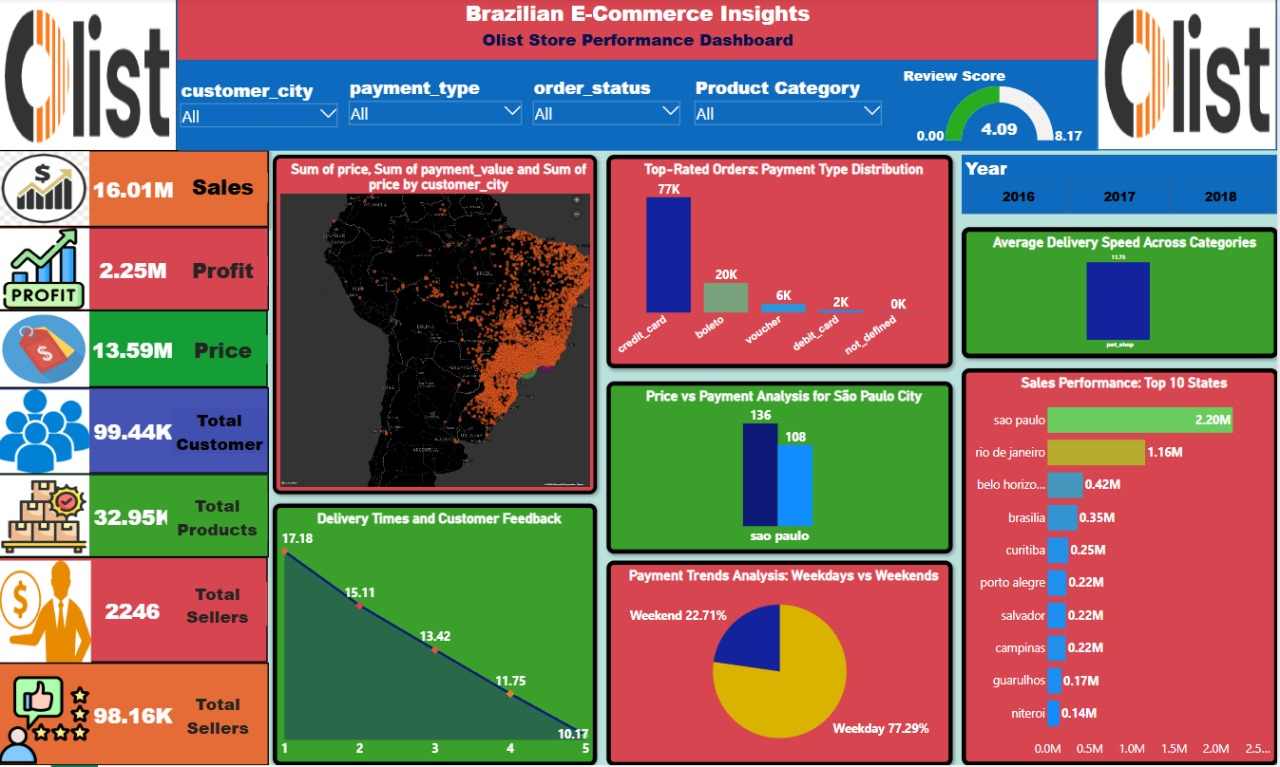

This screenshot's page, from the dashboard's own definition file:
{"tool":"tableau","page":{"name":"Dashboard ","canvas":[1000,1000],"units":"permille","ordinal":0},"visuals":[{"type":"title","box":[4.8,10,990.3,124.9]},{"type":"image","param":"E:/Excelr_ecommerce _project1/E Commerce dataset/E Commerce dataset/images.png","box":[4.8,134.8,125.3,176.3]},{"type":"filter","title":"Delivery Speed: Average Days Across Categories","param":"[federated.19qf7vi0kcursd1g0wc1k1jocrd3].[none:Calculation_1483373159317409795:o","box":[130.2,134.8,202.8,89.7]},{"type":"filter","title":"Delivery Speed: Average Days Across Categories","param":"[federated.19qf7vi0kcursd1g0wc1k1jocrd3].[none:Calculation_1483373159317250050:n","box":[332.9,134.8,319.6,89.9]},{"type":"filter","title":"Delivery Speed: Average Days Across Categories","param":"[federated.19qf7vi0kcursd1g0wc1k1jocrd3].[none:Calculation_1483373159316447233:n","box":[652.5,134.8,342.7,89.9]},{"type":"filter","title":"Delivery Time vs Customer Feedback","param":"[federated.19qf7vi0kcursd1g0wc1k1jocrd3].[none:product_category_name:nk]","box":[130.2,224.5,202.8,86.6]},{"type":"image","param":"E:/Excelr_ecommerce _project1/E Commerce dataset/E Commerce dataset/paymet.png","box":[332.9,224.7,97.8,86.4]},{"type":"filter","title":"Payment Type ","param":"[federated.19qf7vi0kcursd1g0wc1k1jocrd3].[none:payment_type:nk]","box":[430.7,224.7,221.6,86.4]},{"type":"image","param":"E:/Excelr_ecommerce _project1/E Commerce dataset/E Commerce dataset/rs1.png","box":[652.3,224.7,90.5,86.4]},{"type":"filter","title":"Average Payment Trends by Product Category","param":"[federated.19qf7vi0kcursd1g0wc1k1jocrd3].[none:review_score:ok]","box":[742.8,224.7,252.4,86.4]},{"type":"image","param":"E:/Excelr_ecommerce _project1/E Commerce dataset/E Commerce dataset/salessss.jpe","box":[4.8,311.1,125.3,76.6]},{"type":"image","param":"E:/Excelr_ecommerce _project1/E Commerce dataset/E Commerce dataset/price.png","box":[130.1,311.1,146.7,76.3]},{"type":"image","param":"E:/Excelr_ecommerce _project1/E Commerce dataset/E Commerce dataset/profit.png","box":[276.9,311.1,143.7,76.6]},{"type":"image","param":"E:/Excelr_ecommerce _project1/E Commerce dataset/images.png","box":[420.5,311.1,162.3,135.4]},{"type":"image","param":"E:/Excelr_ecommerce _project1/E Commerce dataset/E Commerce dataset/customers.pn","box":[582.8,311.1,141.8,74.7]},{"type":"image","param":"E:/Excelr_ecommerce _project1/E Commerce dataset/E Commerce dataset/sellers.png","box":[724.6,311.1,143.5,74.7]},{"type":"image","param":"E:/Excelr_ecommerce _project1/E Commerce dataset/E Commerce dataset/p.png","box":[868.1,311.1,127,74.7]},{"type":"worksheet","title":"Total Customers","mark":"Automatic","box":[582.8,385.8,141.8,60.7]},{"type":"worksheet","title":"Total Sellers","mark":"Automatic","box":[724.6,385.8,143.5,60.7]},{"type":"worksheet","title":"Total Products","mark":"Automatic","box":[868.1,385.8,127,60.7]},{"type":"worksheet","title":"Total Price","mark":"Automatic","box":[130.1,387.4,146.7,59.1]},{"type":"worksheet","title":"Total Sales","mark":"Automatic","box":[4.8,387.7,125.3,58.8]},{"type":"worksheet","title":"Total Profit","mark":"Automatic","box":[276.9,387.7,143.7,58.8]},{"type":"worksheet","title":"Weekday/Weekends","mark":"Pie","box":[4.8,446.5,266.9,282.8]},{"type":"worksheet","title":"Delivery Speed: Average Days Across Categories","mark":"Pie","rows":["Calculation_1329687821044305920","Calculation_1329687821044305920"],"box":[271.8,446.5,267,282.8]},{"type":"worksheet","title":"Average Payment Trends by Product Category","mark":"Automatic","rows":["payment_value"],"cols":["product_category_name"],"box":[538.8,446.5,280.7,282.8]},{"type":"worksheet","title":"Sales Performance: Top 10 States","mark":"Bar","rows":["customer_city"],"cols":["payment_value"],"box":[819.4,446.5,175.7,543.5]},{"type":"worksheet","title":"Delivery Time vs Customer Feedback","mark":"Automatic","rows":["Calculation_1329687821099941889"],"cols":["review_score"],"box":[4.8,729.4,272.2,195.6]},{"type":"worksheet","title":"Price and Payment Trends in São Paulo city","mark":"Automatic","cols":["customer_city"],"box":[277,729.4,261.8,260.7]},{"type":"worksheet","title":"Payment Type ","mark":"Bar","rows":["payment_type"],"cols":["olist_orders_dataset.csv_21F889329ADC47FE93388A6777013BE0"],"box":[538.8,729.4,280.7,260.7]},{"type":"filter","title":"Weekday/Weekends","param":"[federated.19qf7vi0kcursd1g0wc1k1jocrd3].[none:order_status:nk]","box":[4.8,925,272.2,65.1]}]}

Visuals, with their boxes on the dashboard's canvas, which has no fixed pixel size, in thousandths of its width and height (x1, y1, x2, y2). These are canvas units, not pixel positions in the 1280x767 screenshot, which may show the page scaled, cropped or inside an application window:
title: locate(5, 10, 995, 135)
image: locate(5, 135, 130, 311)
"Delivery Speed: Average Days Across Categories" filter: locate(130, 135, 333, 224)
"Delivery Speed: Average Days Across Categories" filter: locate(333, 135, 652, 225)
"Delivery Speed: Average Days Across Categories" filter: locate(652, 135, 995, 225)
"Delivery Time vs Customer Feedback" filter: locate(130, 224, 333, 311)
image: locate(333, 225, 431, 311)
"Payment Type " filter: locate(431, 225, 652, 311)
image: locate(652, 225, 743, 311)
"Average Payment Trends by Product Category" filter: locate(743, 225, 995, 311)
image: locate(5, 311, 130, 388)
image: locate(130, 311, 277, 387)
image: locate(277, 311, 421, 388)
image: locate(420, 311, 583, 446)
image: locate(583, 311, 725, 386)
image: locate(725, 311, 868, 386)
image: locate(868, 311, 995, 386)
"Total Customers" worksheet: locate(583, 386, 725, 446)
"Total Sellers" worksheet: locate(725, 386, 868, 446)
"Total Products" worksheet: locate(868, 386, 995, 446)
"Total Price" worksheet: locate(130, 387, 277, 446)
"Total Sales" worksheet: locate(5, 388, 130, 446)
"Total Profit" worksheet: locate(277, 388, 421, 446)
"Weekday/Weekends" worksheet (Pie marks): locate(5, 446, 272, 729)
"Delivery Speed: Average Days Across Categories" worksheet (Pie marks): locate(272, 446, 539, 729)
"Average Payment Trends by Product Category" worksheet: locate(539, 446, 820, 729)
"Sales Performance: Top 10 States" worksheet (Bar marks): locate(819, 446, 995, 990)
"Delivery Time vs Customer Feedback" worksheet: locate(5, 729, 277, 925)
"Price and Payment Trends in São Paulo city" worksheet: locate(277, 729, 539, 990)
"Payment Type " worksheet (Bar marks): locate(539, 729, 820, 990)
"Weekday/Weekends" filter: locate(5, 925, 277, 990)
